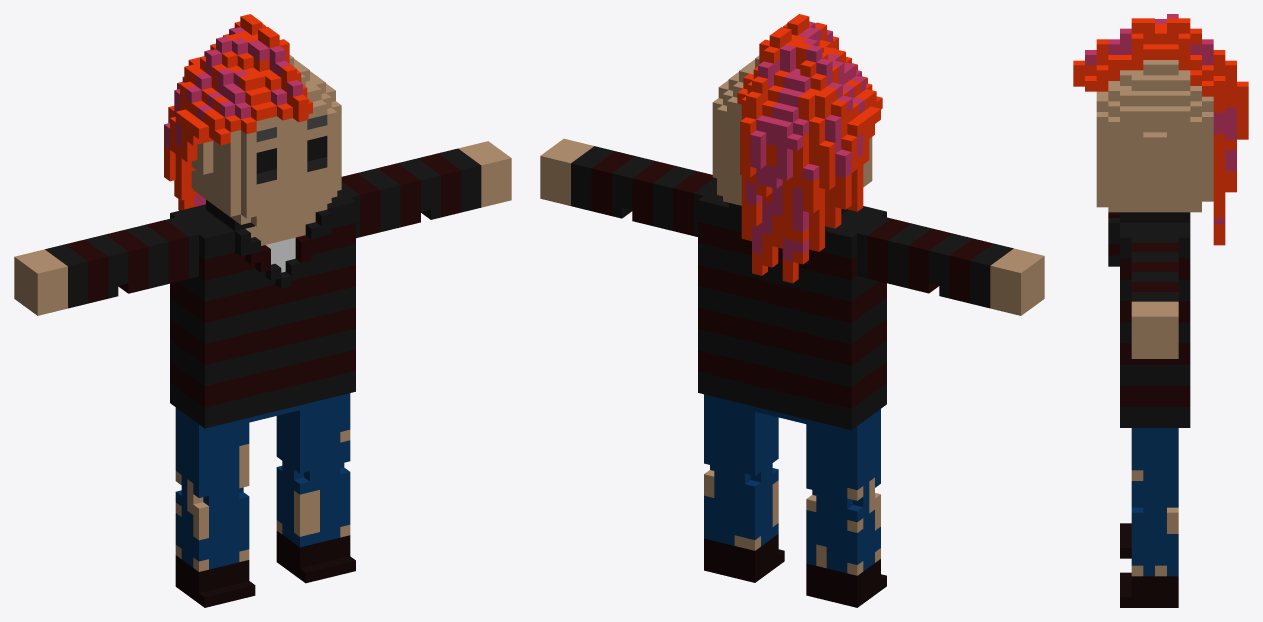
Rendered from character16.obj.
3 views of the same model, side by side, from view 1: azimuth 30°, elevation 25°; view 2: azimuth 150°, elevation 25°; view 3: azimuth 270°, elevation 25° (orthographic).
Bounding box in the file's own units: 4.7 × 5.2 × 1.5.
Materials: 1 (1 with a texture image).
